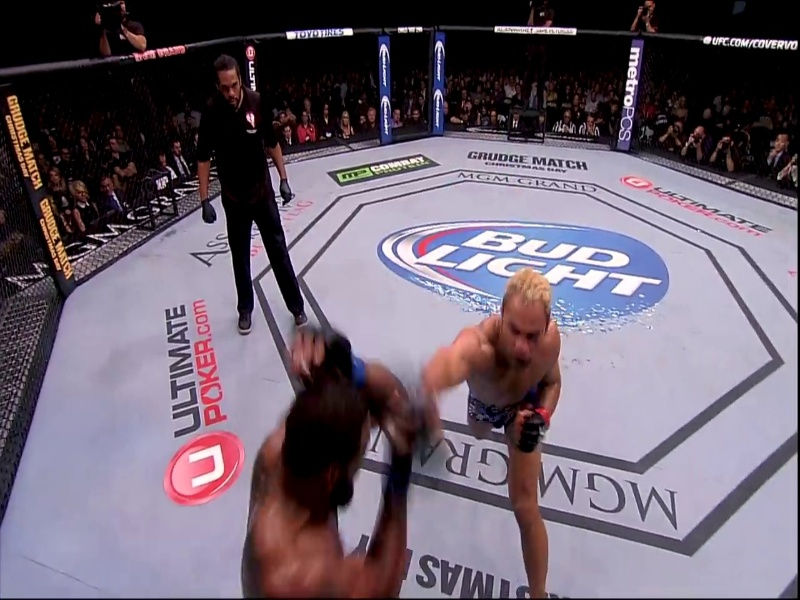fighter: (414, 257, 595, 600), (226, 331, 438, 600)
